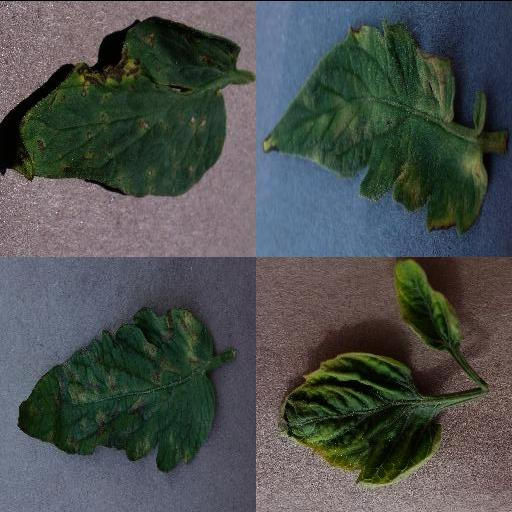Leaf Mold: (262, 20, 492, 233), (17, 306, 219, 469)
Septoria: (11, 14, 241, 198)
Yellow Leaf Curl Virus: (273, 351, 447, 485), (391, 256, 462, 353)
